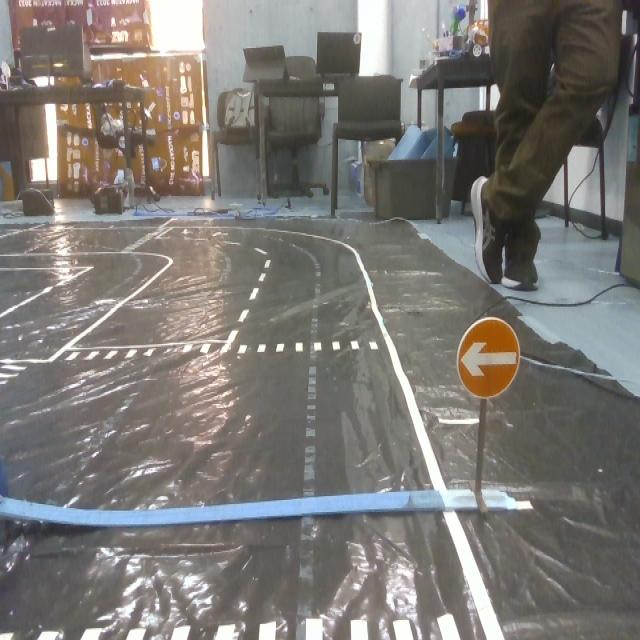forward: (452, 317, 524, 403)
